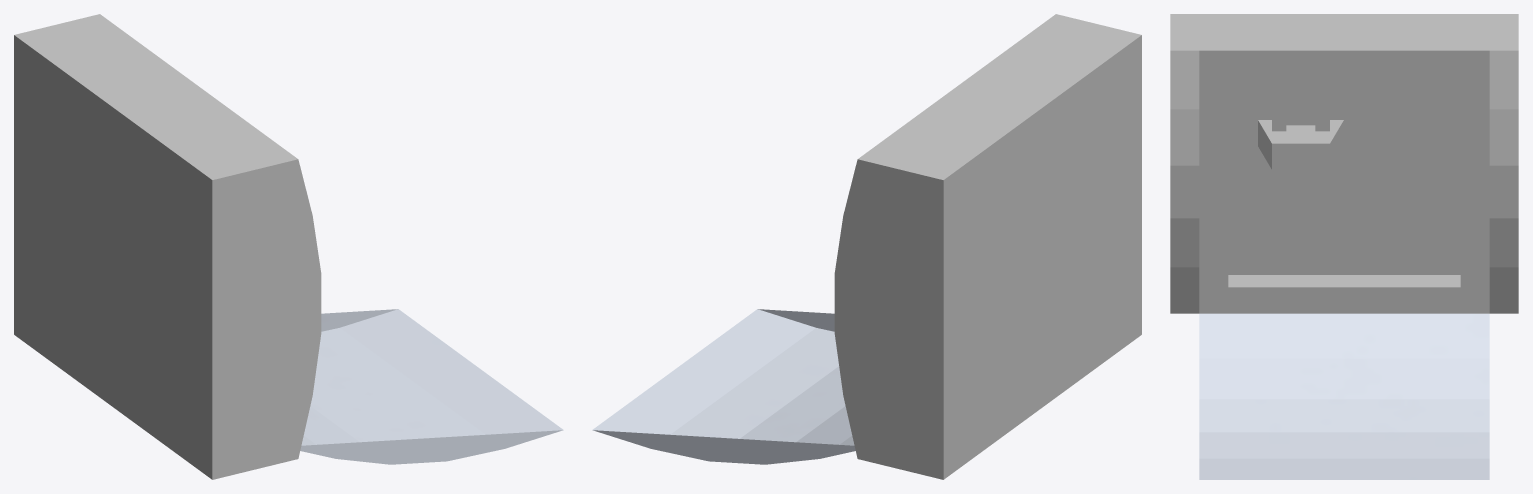
The model's file is DistributionBoard.obj.
The picture shows the model from 3 angles, left to right: view 1: azimuth 30°, elevation 25°; view 2: azimuth 150°, elevation 25°; view 3: azimuth 270°, elevation 25°; orthographic projection. The views are drawn at different scales.
Visible parts, largest first — view 1: base, window, elemPrimitive; view 2: base, window, elemPrimitive; view 3: base, window, elemPrimitive.
Boxes of the visible parts, bbox=[...] form: base: bbox=[14, 14, 321, 479]; window: bbox=[300, 309, 563, 464]; elemPrimitive: bbox=[113, 228, 162, 291]; base: bbox=[834, 14, 1141, 479]; window: bbox=[592, 309, 855, 464]; elemPrimitive: bbox=[1042, 191, 1092, 256]; base: bbox=[1170, 14, 1518, 313]; window: bbox=[1199, 313, 1489, 479]; elemPrimitive: bbox=[1258, 120, 1343, 169].
Size of the model in its own units: 0.803 by 0.7426 by 0.75.
Materials: 2 (1 with a texture image).
